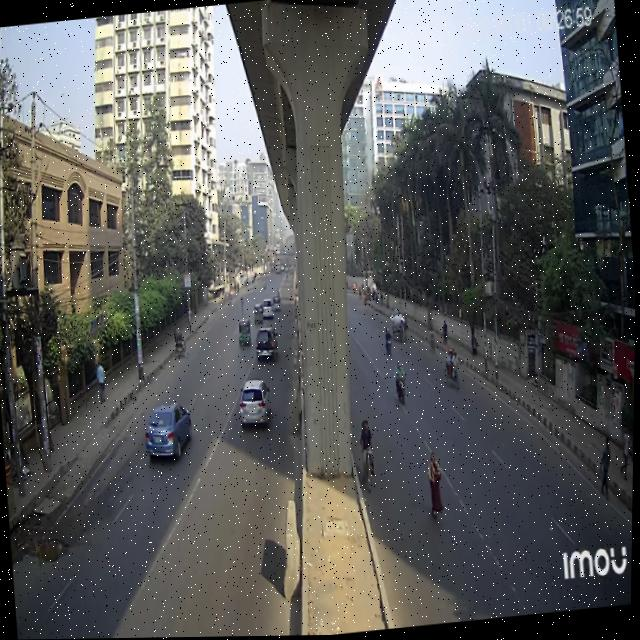cng: (237, 313, 256, 354), (254, 300, 267, 325)
rikshaw: (439, 349, 466, 396), (171, 329, 188, 367)
